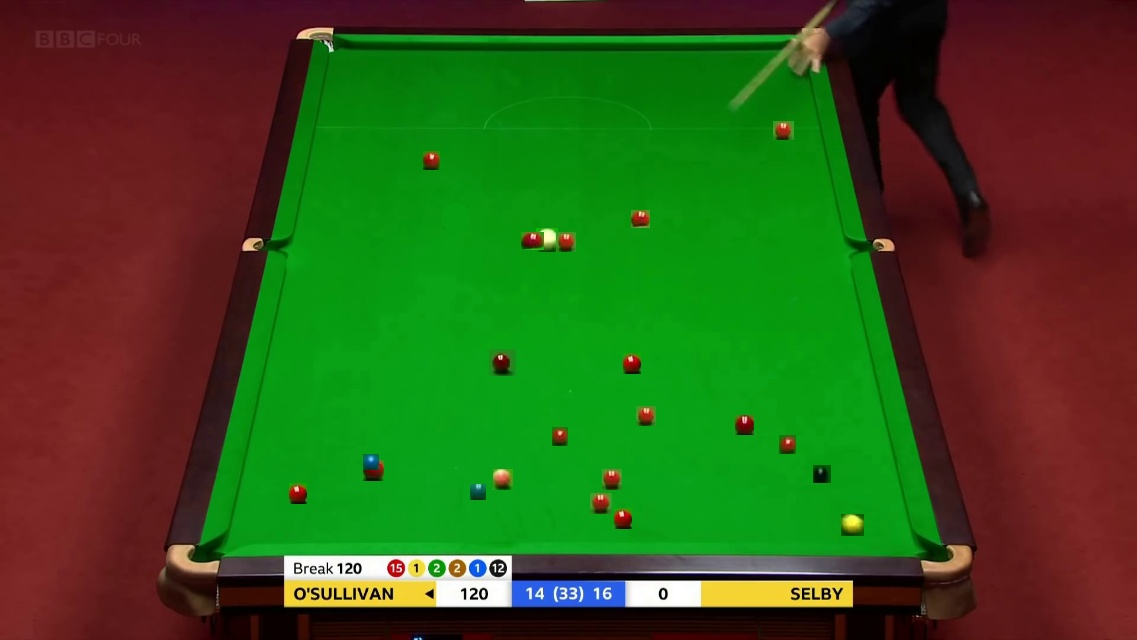black: (813, 465, 831, 483)
blue: (363, 454, 379, 470)
brown: (489, 349, 516, 376)
green: (470, 484, 486, 500)
pink: (493, 469, 514, 489)
red: (590, 493, 611, 515), (363, 460, 384, 481), (602, 469, 623, 489), (521, 232, 539, 255), (636, 406, 656, 426), (556, 232, 576, 252), (773, 121, 792, 142), (735, 415, 755, 434), (614, 508, 635, 526), (289, 483, 310, 501), (623, 353, 644, 371), (631, 210, 649, 229), (779, 435, 798, 452), (423, 151, 442, 168), (552, 427, 571, 443)
white: (536, 228, 560, 250)
yellow: (841, 514, 863, 537)
